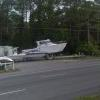Boat: (2, 33, 69, 71)
